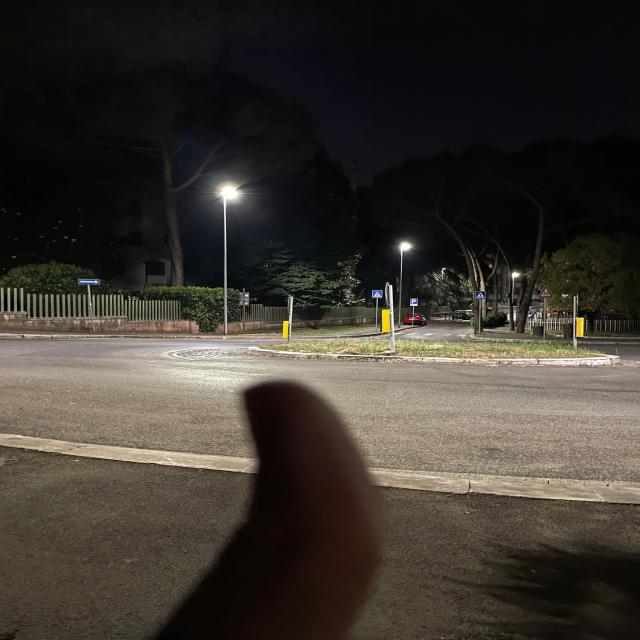lampione: (386, 232, 427, 264), (213, 176, 253, 206), (501, 263, 532, 288)
